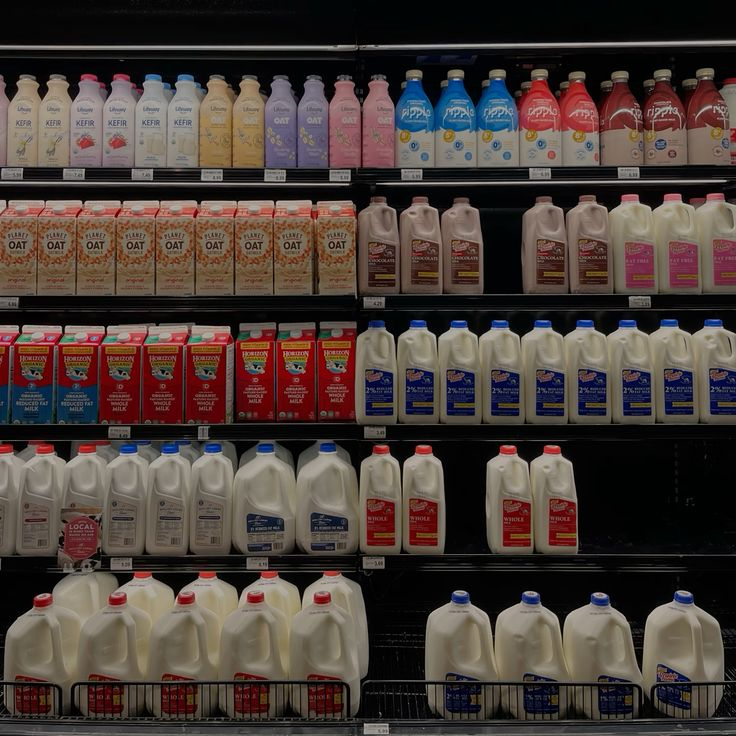milk: (480, 320, 524, 423), (399, 320, 438, 423), (276, 323, 315, 421), (317, 322, 356, 420), (317, 201, 354, 295)
